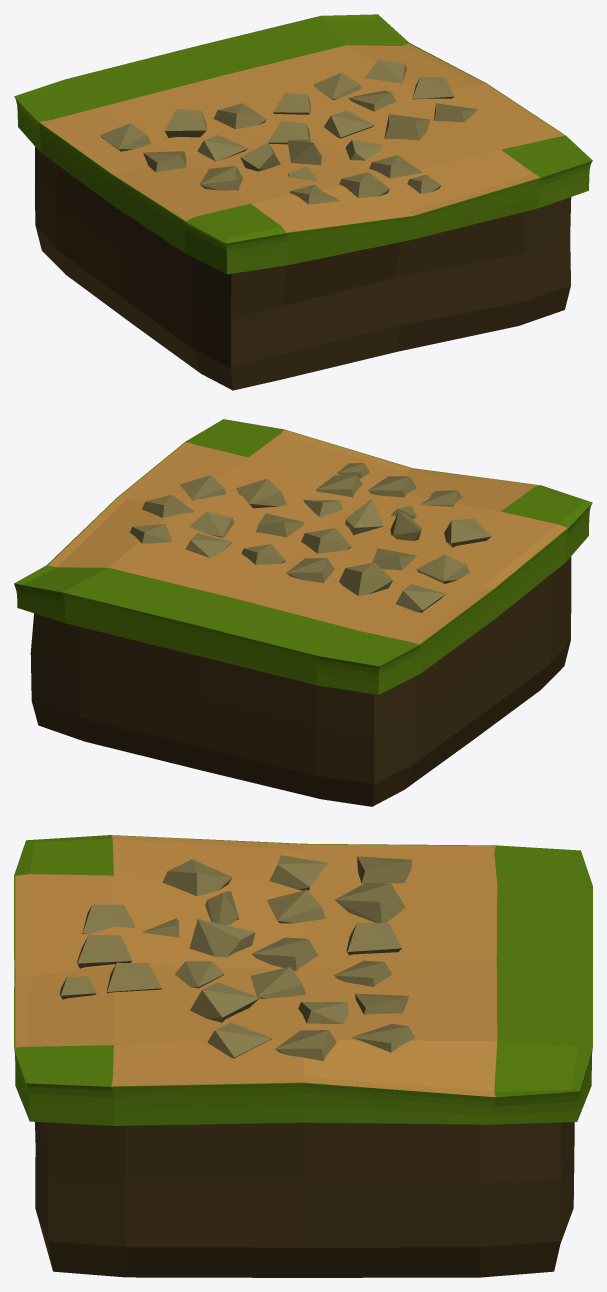
The model's file is RoadTile_TCross.fbx.
3 views of the same model, one above another, from view 1: azimuth 30°, elevation 25°; view 2: azimuth 150°, elevation 25°; view 3: azimuth 270°, elevation 25° (orthographic). The views are drawn at different scales.
Parts seen in each view (by area): view 1: DefaultGreenTile.005, RoadRocks.002; view 2: DefaultGreenTile.005, RoadRocks.002; view 3: DefaultGreenTile.005, RoadRocks.002.
Part boxes in pixels (box(x1,y1,x2,y2)): DefaultGreenTile.005: box(14, 14, 592, 390); RoadRocks.002: box(100, 59, 476, 204); DefaultGreenTile.005: box(14, 419, 592, 806); RoadRocks.002: box(130, 463, 491, 612); DefaultGreenTile.005: box(14, 835, 592, 1277); RoadRocks.002: box(59, 855, 415, 1061).
Size of the model in its own units: 19.42 by 19.55 by 9.04.
